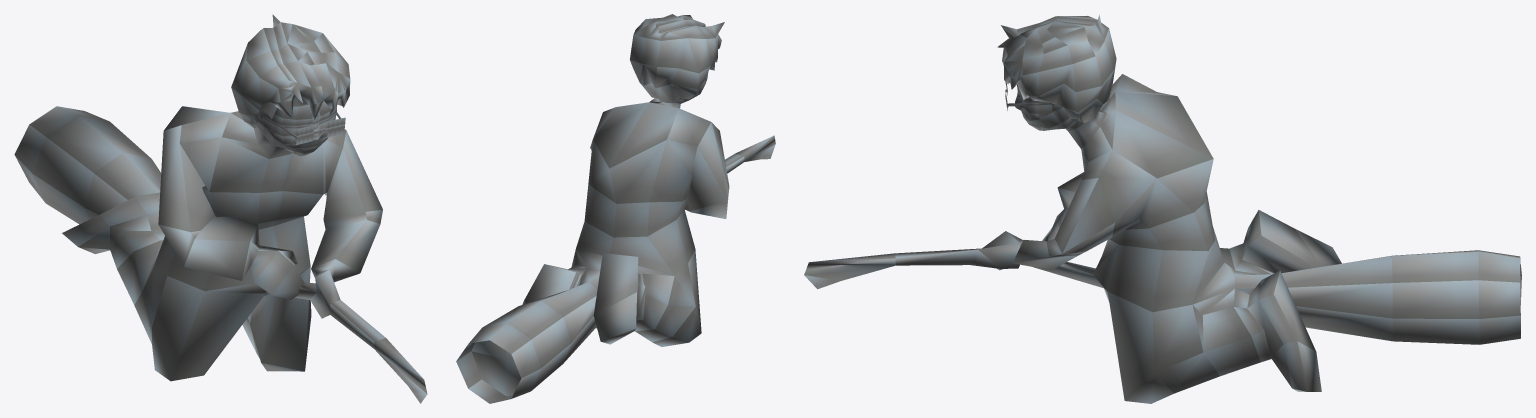
The picture shows the model from 3 angles, left to right: view 1: azimuth 30°, elevation 25°; view 2: azimuth 150°, elevation 25°; view 3: azimuth 270°, elevation 25°; orthographic projection. The views are drawn at different scales.
Visible parts, largest first — view 1: T1L2M008_9; view 2: T1L2M008_9; view 3: T1L2M008_9.
Part boxes in pixels (box(x1,y1,x2,y2)): T1L2M008_9: box(14, 14, 427, 403); T1L2M008_9: box(456, 14, 775, 403); T1L2M008_9: box(804, 14, 1521, 403).
Bounding box in the file's own units: 0.502 × 0.9614 × 1.68.
